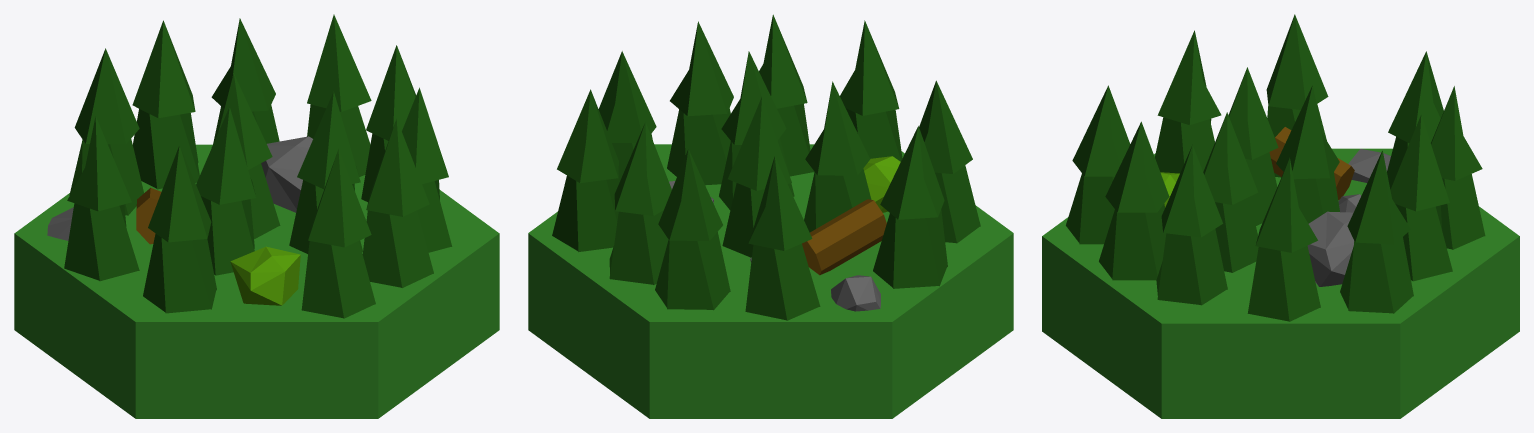
File: Wood4Final.fbx
The picture shows the model from 3 angles, left to right: view 1: azimuth 30°, elevation 25°; view 2: azimuth 150°, elevation 25°; view 3: azimuth 270°, elevation 25°; orthographic projection.
Visible parts, largest first — view 1: Cylinder; view 2: Cylinder; view 3: Cylinder.
Boxes of the visible parts, x1,y1,x2,y2 form: Cylinder: (14,14,499,418); Cylinder: (528,14,1013,418); Cylinder: (1042,14,1519,418).
Size of the model in its own units: 1.73 by 1.12 by 2.
